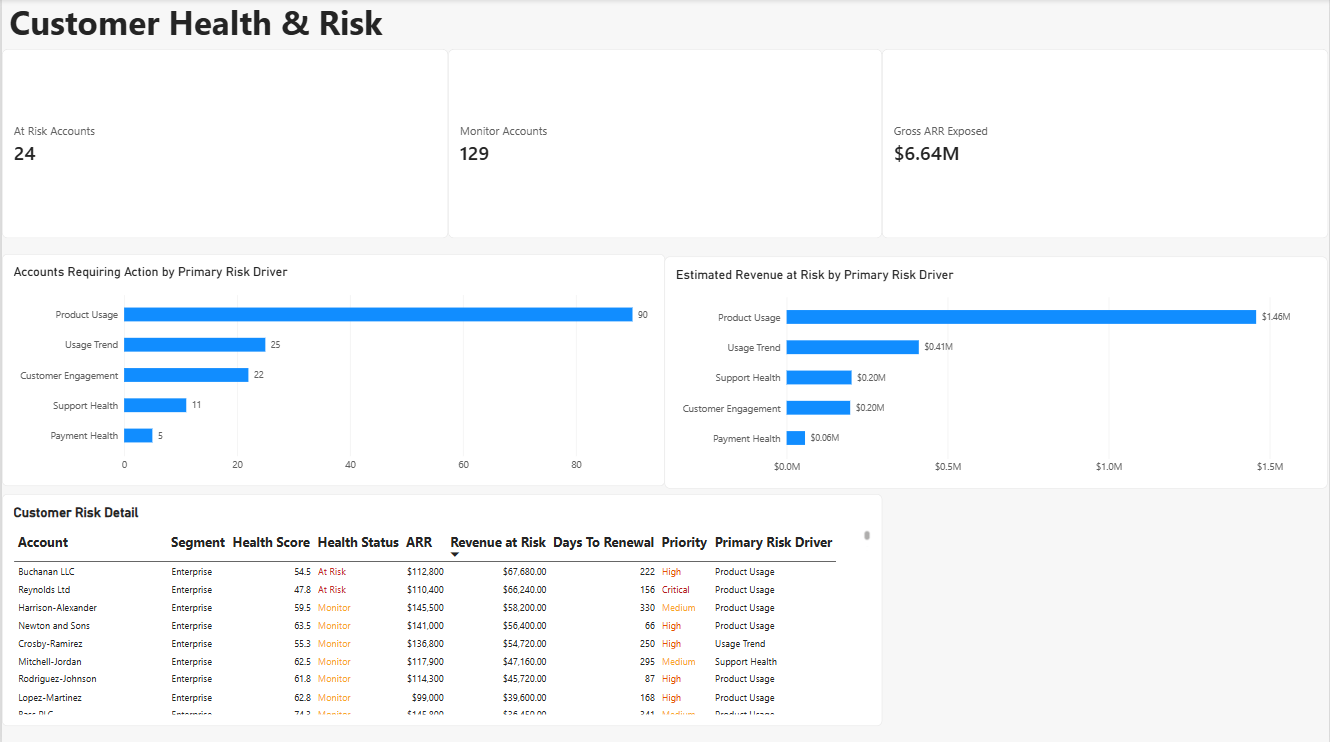

The page's visual inventory and layout, read from the dashboard file:
{"tool":"powerbi","page":{"name":"Customer Health & Risk","canvas":[1920,1080],"ordinal":1},"visuals":[{"type":"textbox","box":[10,0,1910,72],"z":0},{"type":"cardVisual","fields":{"Data":["Account Health.At Risk Accounts"]},"box":[0,72,646,274],"z":1000},{"type":"cardVisual","fields":{"Data":["Account Health.Monitor Accounts"]},"box":[646,72,628,274],"z":2000},{"type":"cardVisual","fields":{"Data":["Account Health.Gross ARR Exposed"]},"box":[1274,72,646,274],"z":3000},{"type":"clusteredBarChart","title":"Accounts Requiring Action by Primary Risk Driver","fields":{"Category":["Account Health.primary_risk_driver"],"Y":["Account Health.Active Accounts"]},"box":[0,370,960,336],"z":4000},{"type":"clusteredBarChart","title":"Estimated Revenue at Risk by Primary Risk Driver","fields":{"Category":["Account Health.primary_risk_driver"],"Y":["Account Health.Estimated Revenue at Risk"]},"box":[960,372,960,336],"z":5000},{"type":"tableEx","title":"Customer Risk Detail","fields":{"Values":["Account Health.account_name","DimSegment.Segment","Account Health.health_score","Account Health.health_status","Account Health.arr","Account Health.Estimated Revenue at Risk","Account Health.days_to_renewal","Account Health.priority_tier","Account Health.primary_risk_driver"]},"box":[0,716,1274,336],"z":6000}]}

Visuals, with their boxes in screenshot pixels (x1, y1, x2, y2), scaled from the page's 1920x1080 canvas onto the 1330x742 screenshot:
textbox: region(7, 0, 1329, 49)
cardVisual - Account Health.At Risk Accounts: region(0, 49, 447, 238)
cardVisual - Account Health.Monitor Accounts: region(447, 49, 883, 238)
cardVisual - Account Health.Gross ARR Exposed: region(883, 49, 1329, 238)
"Accounts Requiring Action by Primary Risk Driver" clusteredBarChart: region(0, 254, 665, 485)
"Estimated Revenue at Risk by Primary Risk Driver" clusteredBarChart: region(665, 256, 1329, 486)
"Customer Risk Detail" tableEx: region(0, 492, 883, 723)
